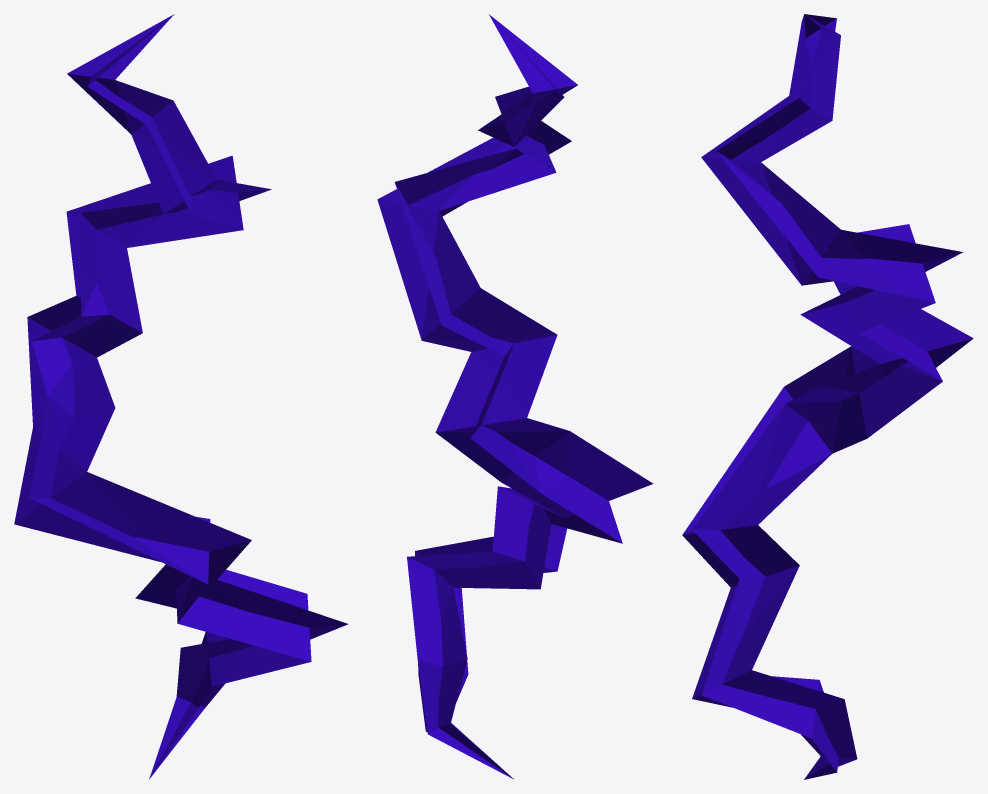
File: SM_EFF_Lightning_D_01.mo.fbx
The picture shows the model from 3 angles, left to right: view 1: azimuth 30°, elevation 25°; view 2: azimuth 150°, elevation 25°; view 3: azimuth 270°, elevation 25°; orthographic projection. The views are drawn at different scales.
Visible parts, largest first — view 1: SM_EFF_Lightning_D_01.mo; view 2: SM_EFF_Lightning_D_01.mo; view 3: SM_EFF_Lightning_D_01.mo.
Part boxes in pixels (x1,y1,x2,y2): SM_EFF_Lightning_D_01.mo: (14, 14, 348, 779); SM_EFF_Lightning_D_01.mo: (377, 14, 653, 779); SM_EFF_Lightning_D_01.mo: (682, 14, 973, 779).
Size of the model in its own units: 0.3856 by 1 by 0.3404.
